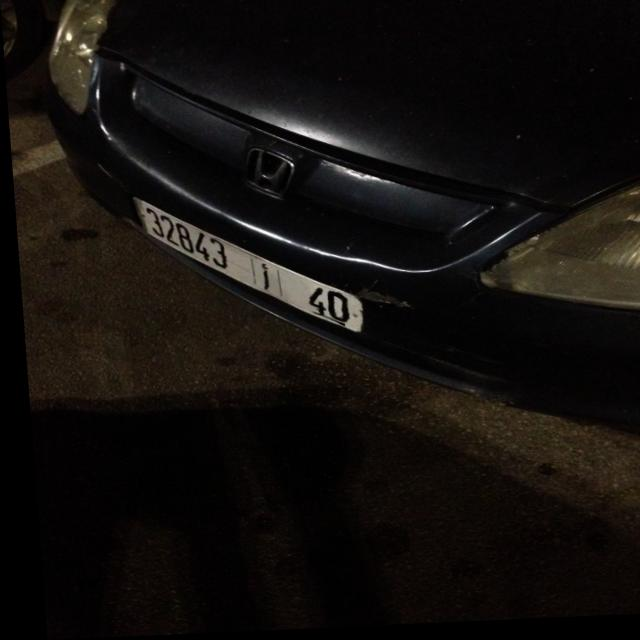License-Plate: (130, 199, 358, 334)
